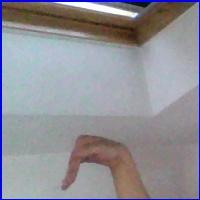del: (58, 134, 132, 193)
